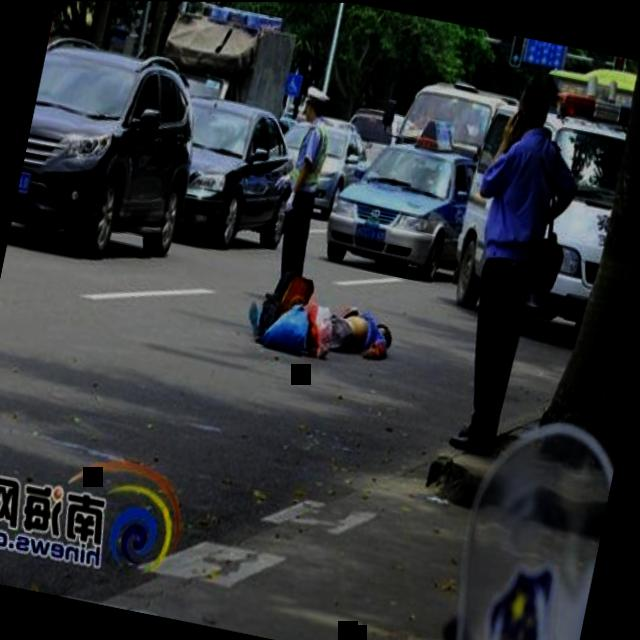Fall-Detected: (238, 250, 417, 382)
